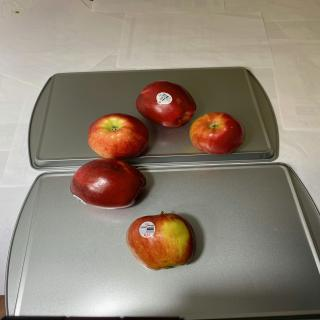Apple: (126, 211, 196, 271), (70, 158, 146, 209), (136, 80, 197, 128), (88, 113, 149, 160), (189, 112, 245, 155)
